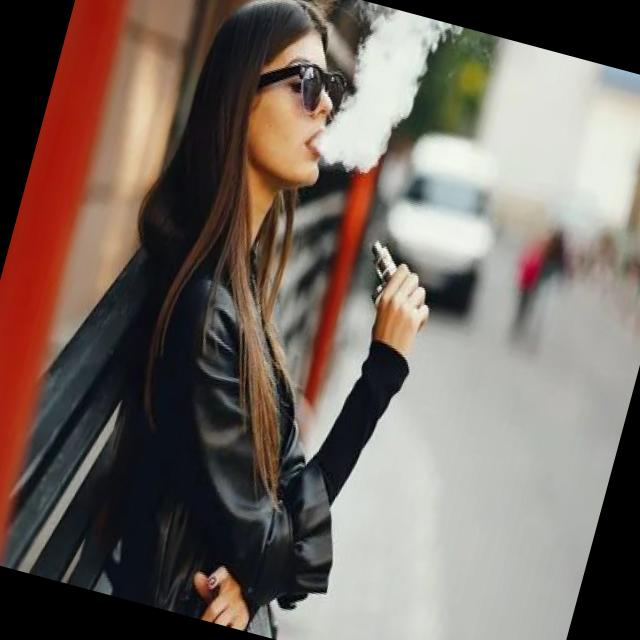smoke: (353, 236, 412, 306)
